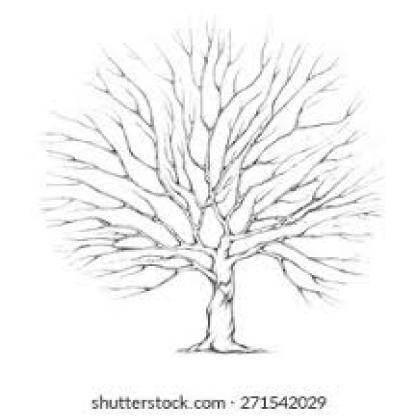branch_cut: (178, 334, 266, 365)
branch_sharp: (49, 20, 379, 306)
root_none: (176, 337, 268, 366)
trunk_bark: (197, 290, 244, 334)
